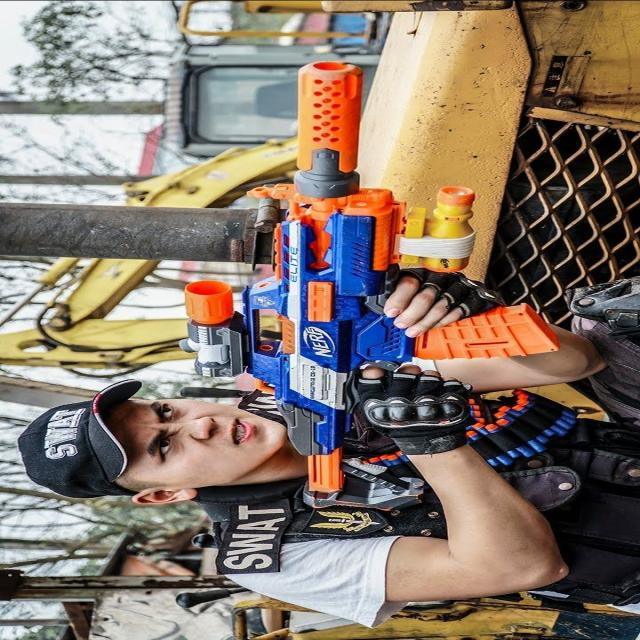Nerf gun: (176, 56, 570, 522)
